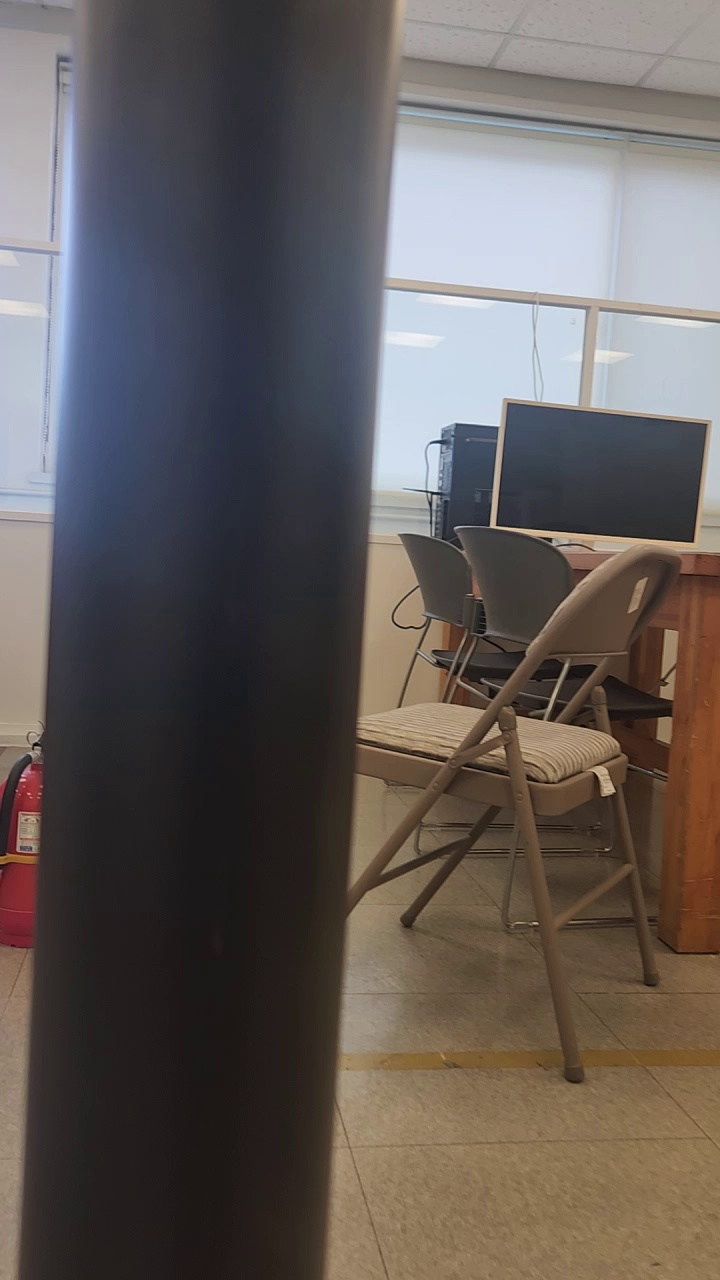pole: (20, 0, 398, 1279)
